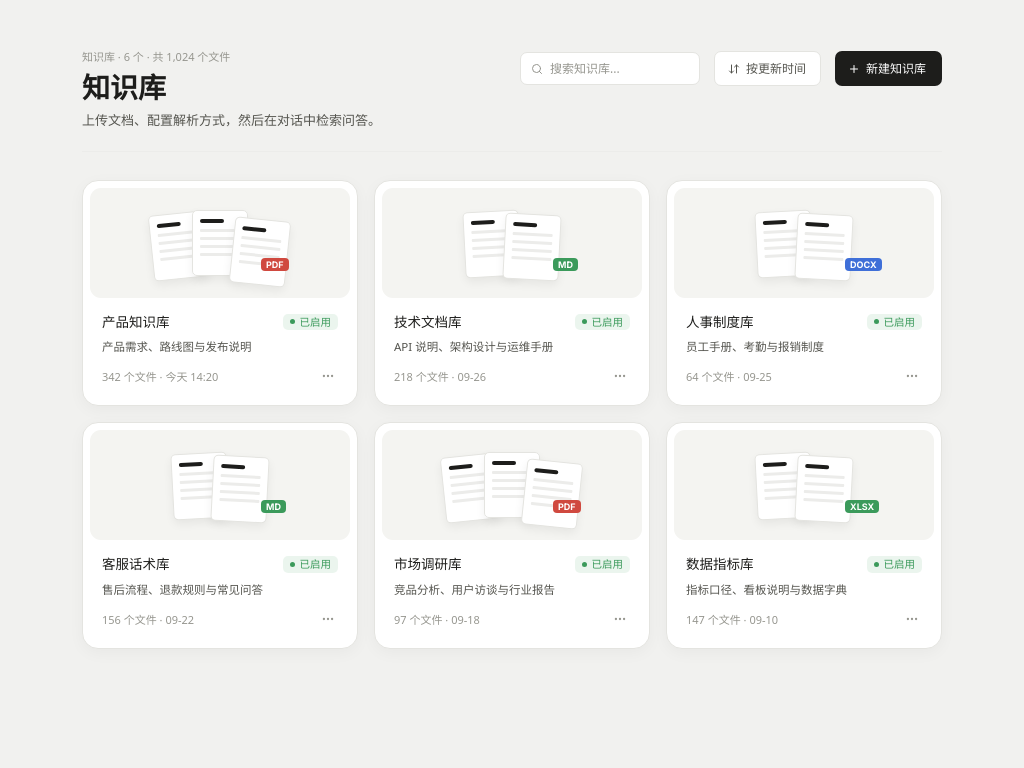
it: DatasetListPage › renders cards and filters by search
Check: the text "产品知识库" is shown, box x1=102 y1=312 x2=170 y2=332
Type "人事" into the search field labelled "搜索知识库...". click: (620, 68)
box: x1=550 y1=60 x2=689 y2=77
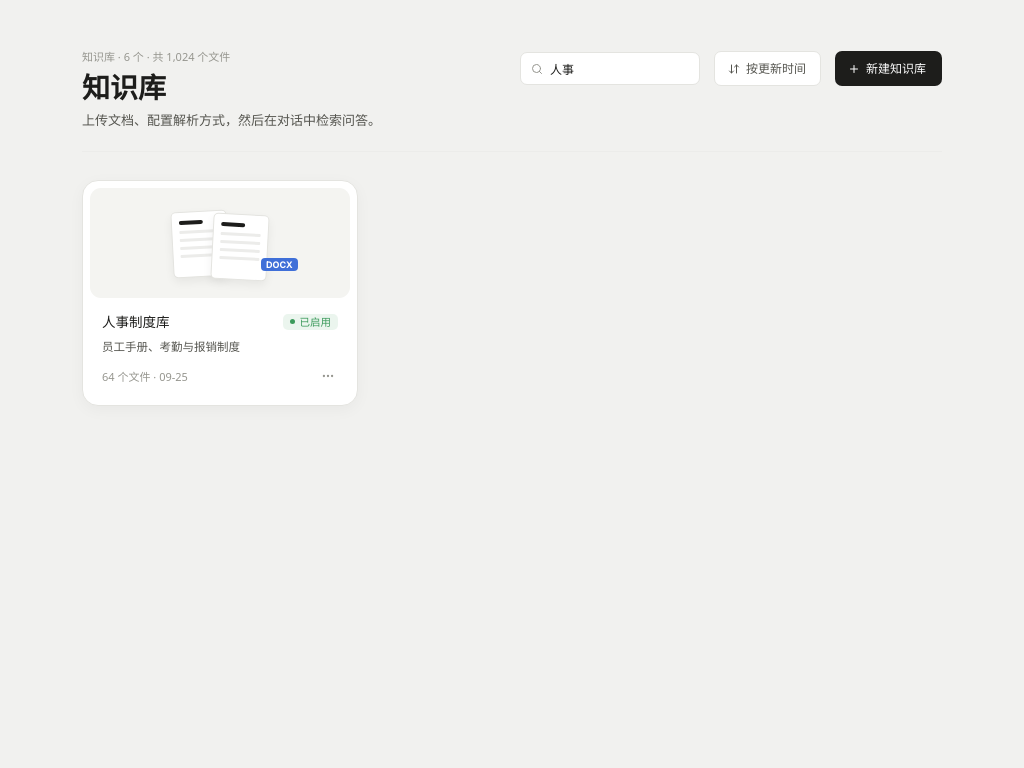
Check: the text "人事制度库" is shown, box x1=102 y1=312 x2=170 y2=332
Check: the link "产品知识库" is gone
